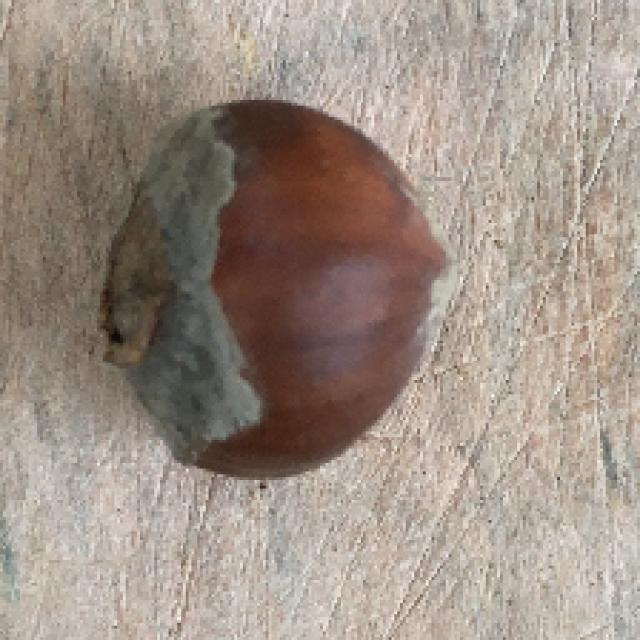damagedHazelnut: (103, 84, 456, 489)
